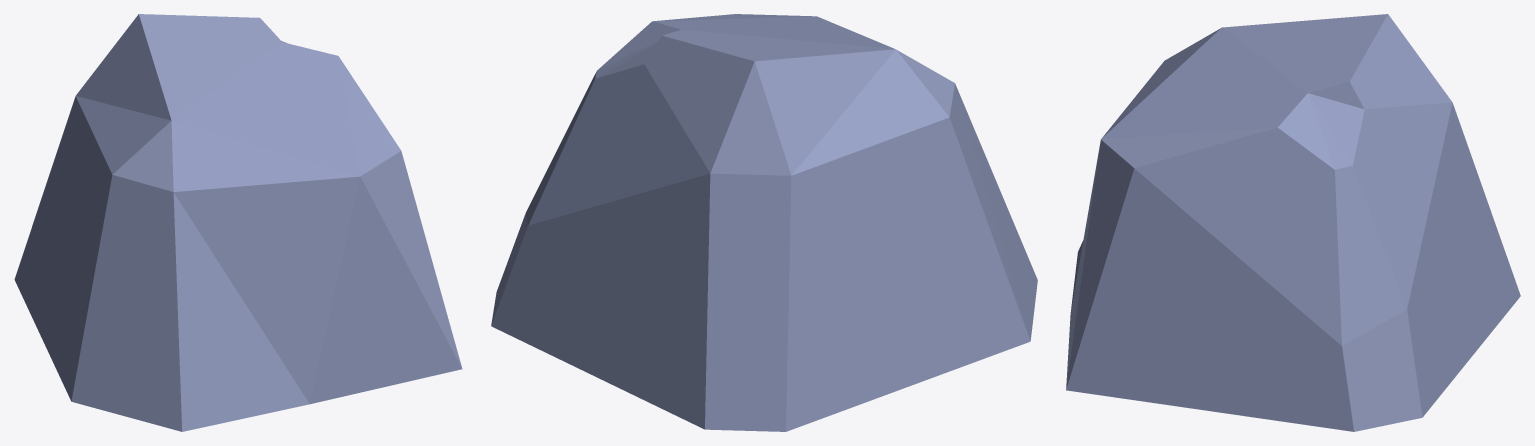
File: Rock_42.fbx
3 views of the same model, side by side, from view 1: azimuth 30°, elevation 25°; view 2: azimuth 150°, elevation 25°; view 3: azimuth 270°, elevation 25° (orthographic). The views are drawn at different scales.
Visible parts, largest first — view 1: Rock_42; view 2: Rock_42; view 3: Rock_42.
Part boxes in pixels (x1,y1,x2,y2): Rock_42: [14, 14, 462, 431]; Rock_42: [491, 14, 1037, 431]; Rock_42: [1066, 14, 1520, 431].
Bounding box in the file's own units: 1.65 × 1.09 × 1.54.
